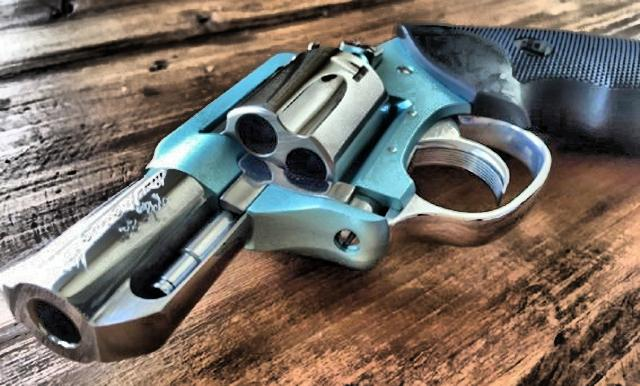pistol: (6, 28, 638, 360)
